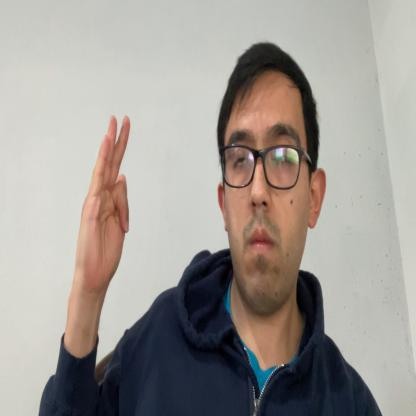F: (78, 113, 130, 288)
